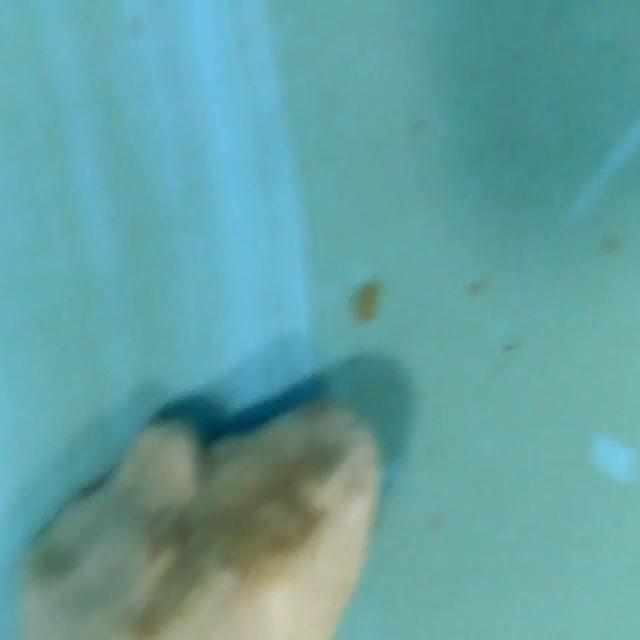rock: (5, 385, 389, 640)
